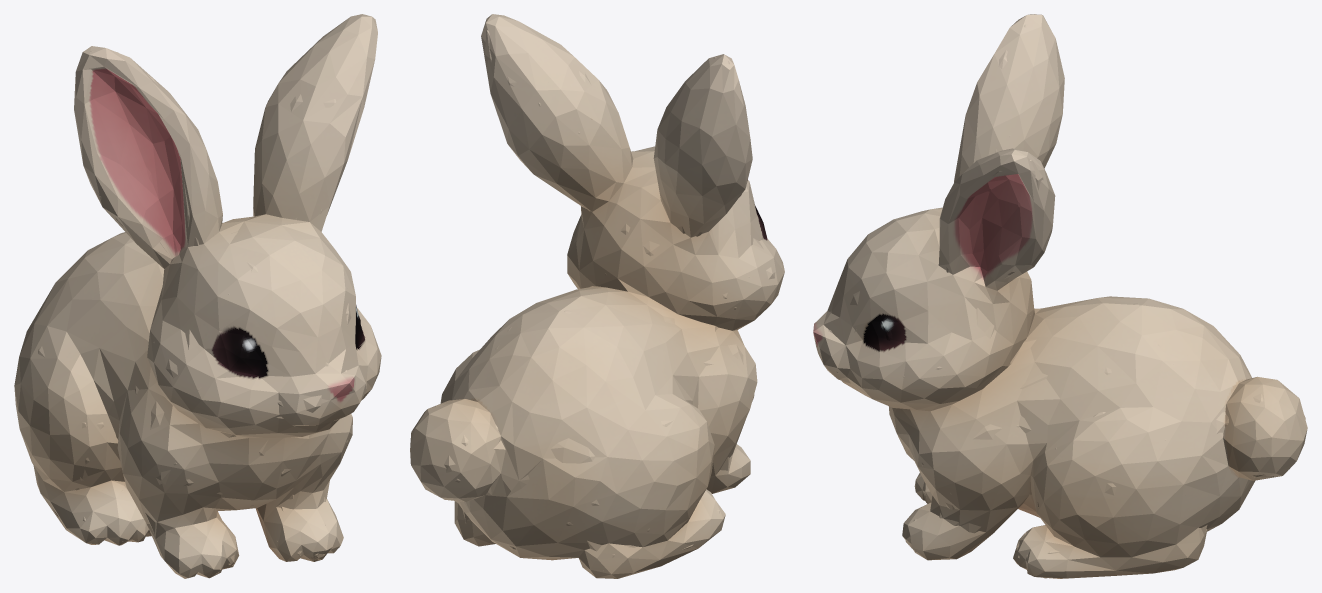
3 renders of one model, left to right at view 1: azimuth 30°, elevation 25°; view 2: azimuth 150°, elevation 25°; view 3: azimuth 270°, elevation 25°, orthographic. The views are drawn at different scales.
Size of the model in its own units: 0.5928 by 0.9997 by 0.9528.
Materials: 1 (1 with a texture image).
